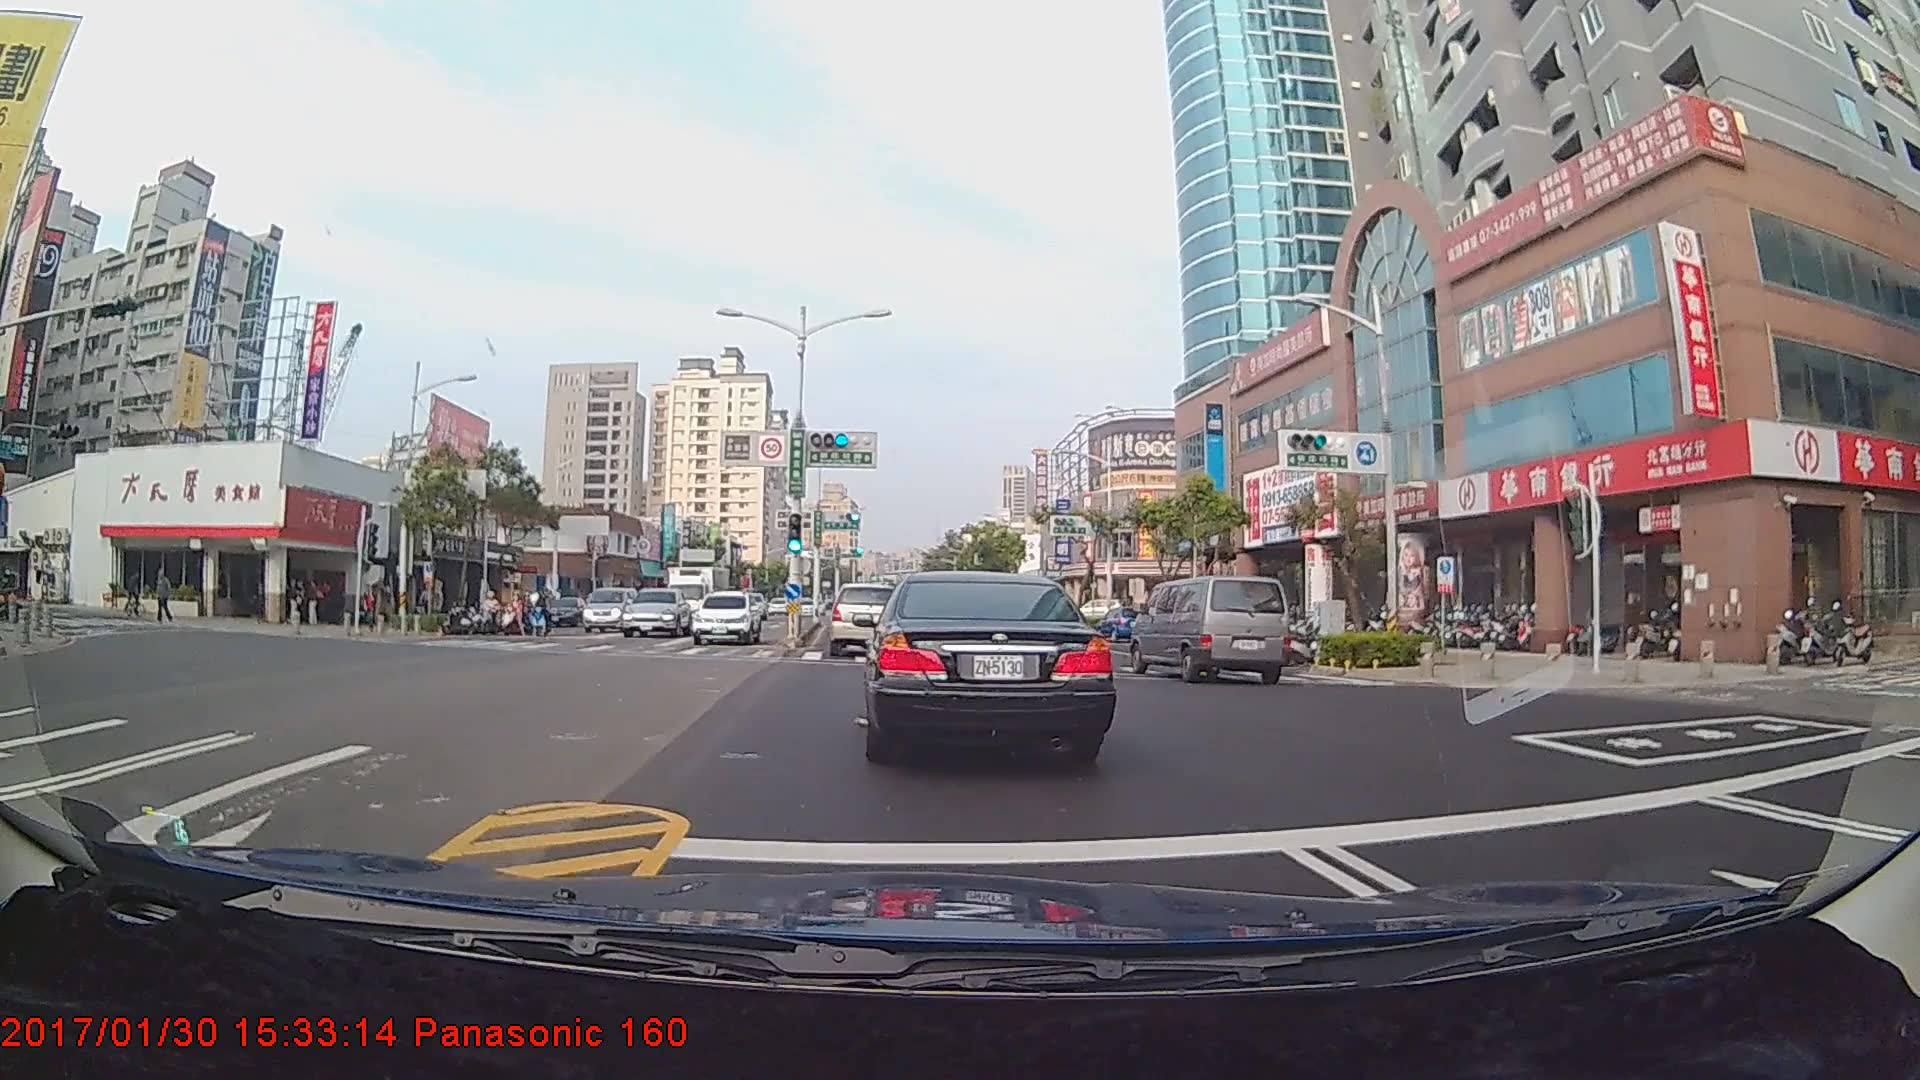pedestrian: (153, 570, 175, 625), (288, 578, 308, 630), (303, 579, 323, 627)
vehicle: (863, 567, 1108, 763), (1135, 574, 1290, 684), (829, 580, 907, 656), (662, 559, 730, 630), (690, 590, 762, 644), (620, 587, 691, 638), (579, 584, 637, 632), (1092, 603, 1145, 644)
